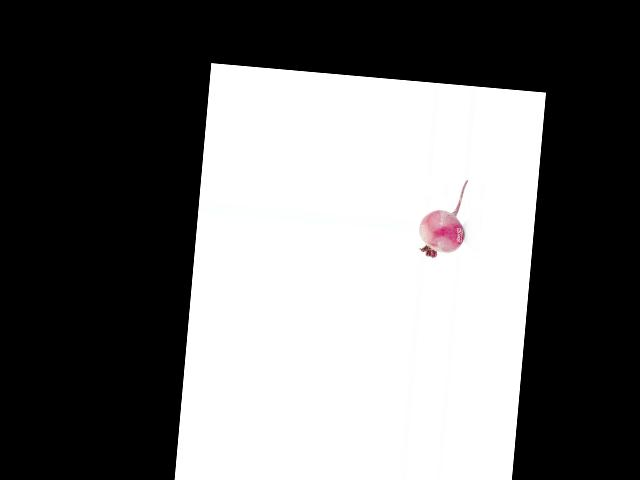beet: (417, 176, 469, 260)
